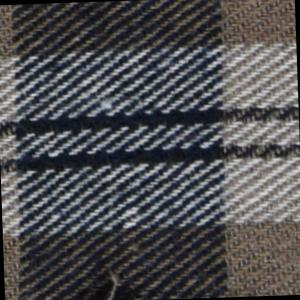Damage: (69, 264, 147, 300)
